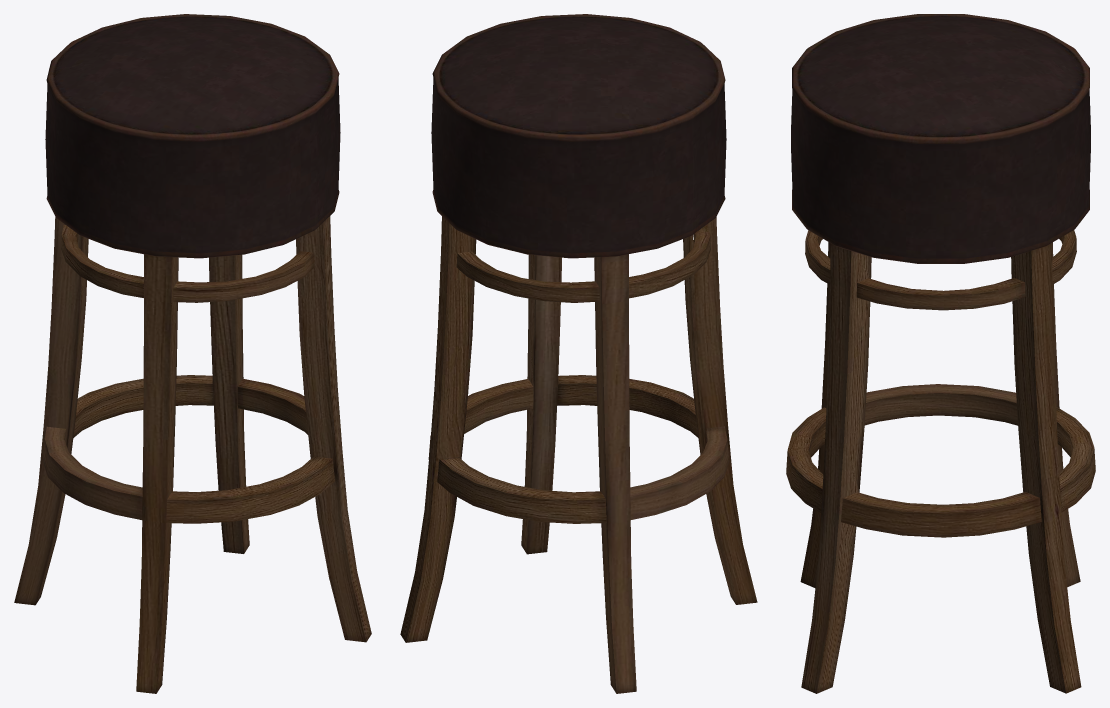
The picture shows the model from 3 angles, left to right: view 1: azimuth 30°, elevation 25°; view 2: azimuth 150°, elevation 25°; view 3: azimuth 270°, elevation 25°; orthographic projection. The views are drawn at different scales.
Parts seen in each view (by area): view 1: re_ho_02 (2); view 2: re_ho_02 (2); view 3: re_ho_02 (2).
Part boxes in pixels (x1,y1,x2,y2): re_ho_02 (2): (14, 14, 371, 693); re_ho_02 (2): (400, 14, 757, 693); re_ho_02 (2): (786, 14, 1095, 693).
Bounding box in the file's own units: 0.4024 × 0.8264 × 0.4024.
Materials: 1 (1 with a texture image).
